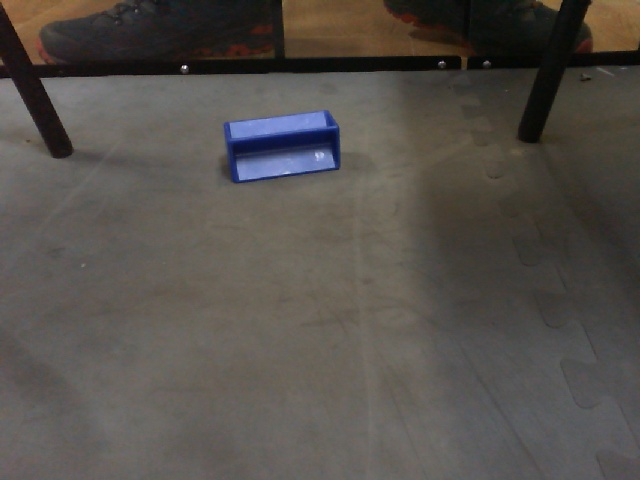BlueSample: (219, 106, 346, 185)
